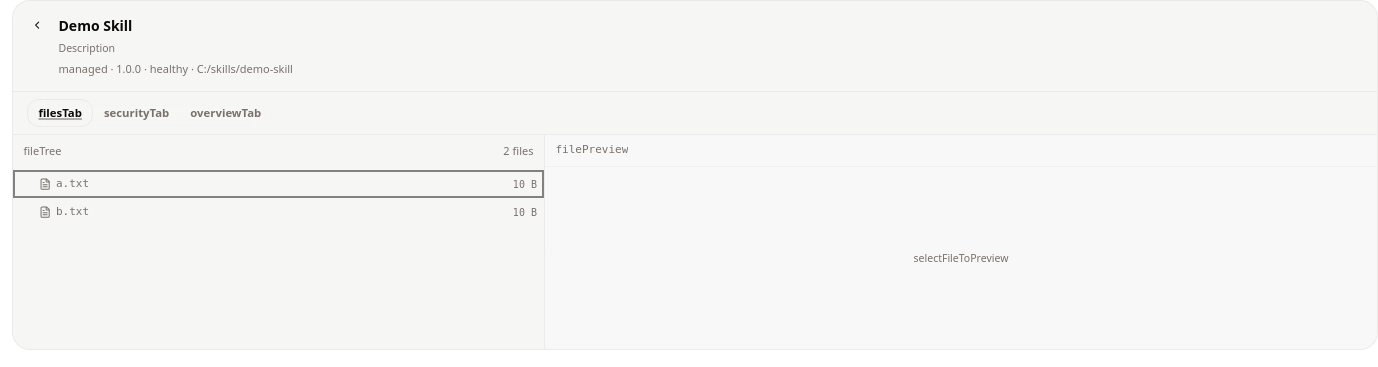
it: lazy Skill file details › discards a late file response after the user selects another file
Click the list item "a.txt 10 B".
click(73, 183)  # box [13,170,544,198]
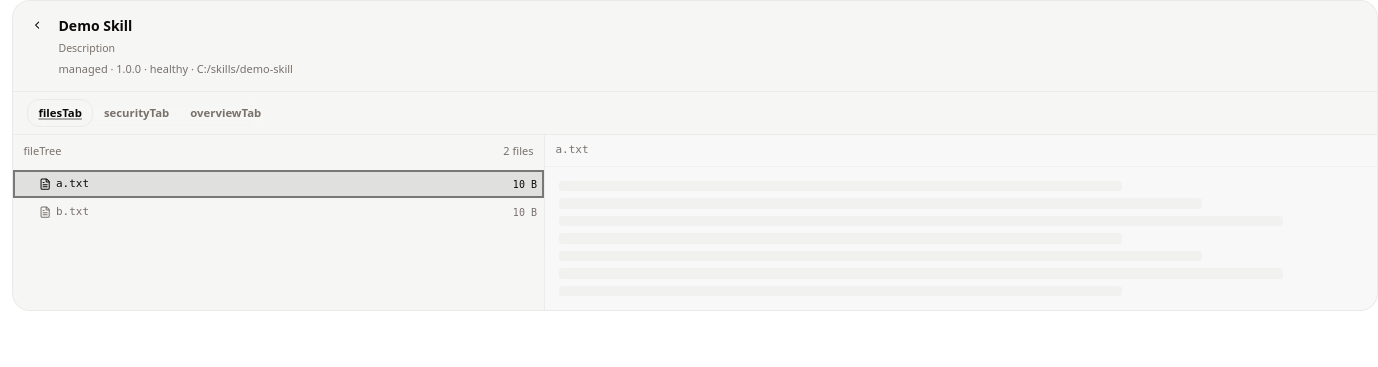
Click the list item "b.txt 10 B".
click(73, 211)  # box [13,198,544,226]
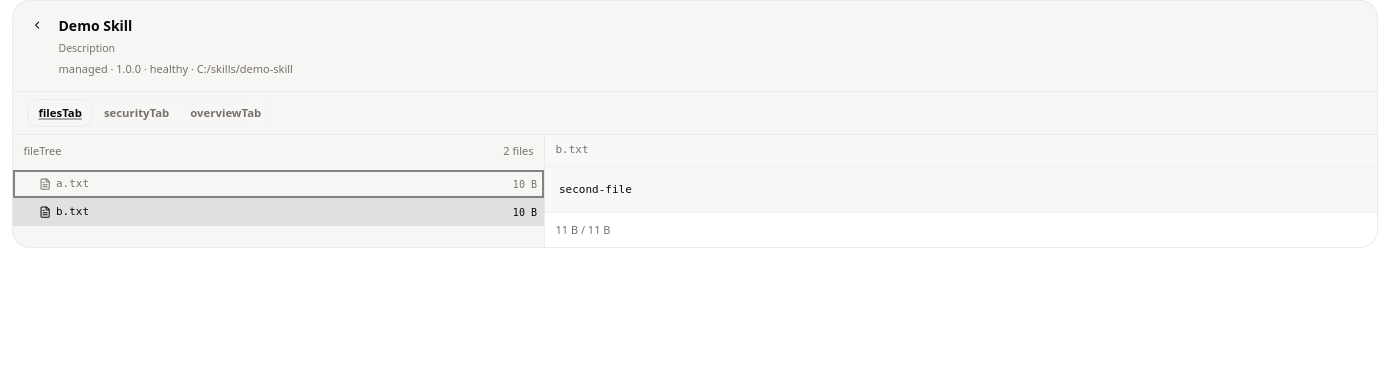
Expected: the text "second-file" is shown, [559,182,632,196]
